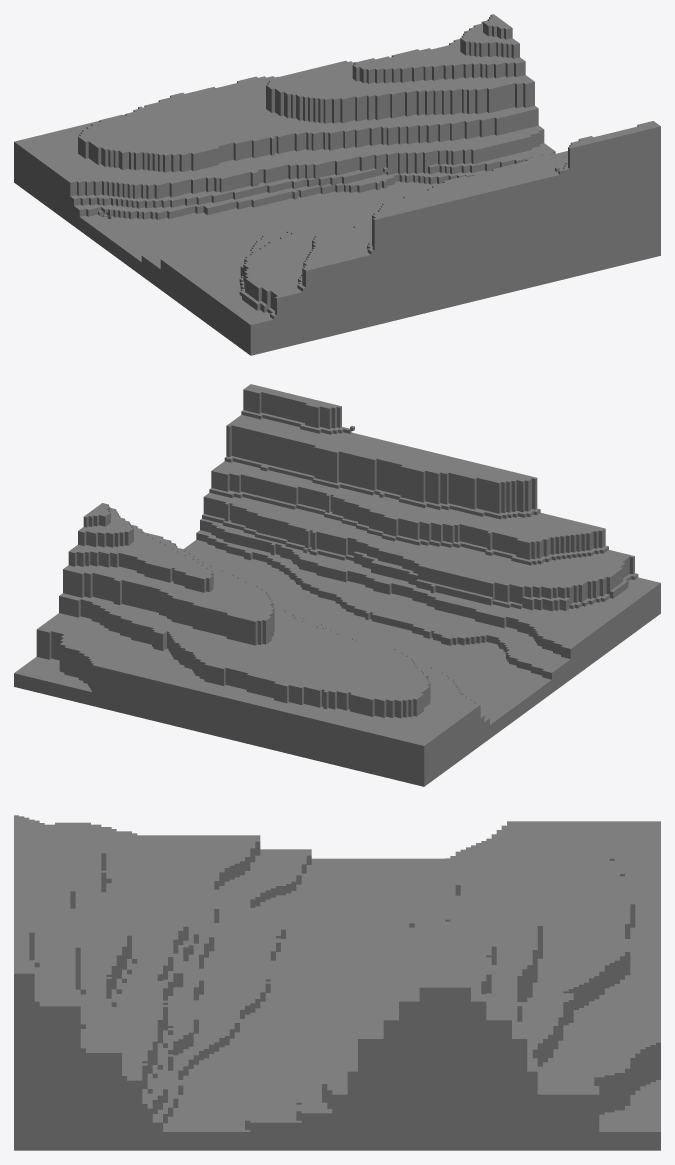
Rendered from Main Island-31.obj.
3 views of the same model, one above another, from view 1: azimuth 30°, elevation 25°; view 2: azimuth 150°, elevation 25°; view 3: azimuth 270°, elevation 25° (orthographic). The views are drawn at different scales.
Parts seen in each view (by area): view 1: Main Island-13; view 2: Main Island-13; view 3: Main Island-13.
Part boxes in pixels (x1,y1,x2,y2): Main Island-13: (14,14,660,355); Main Island-13: (14,384,660,786); Main Island-13: (14,815,660,1150).
Size of the model in its own units: 126 by 38 by 126.
1 material, 1 textured.
